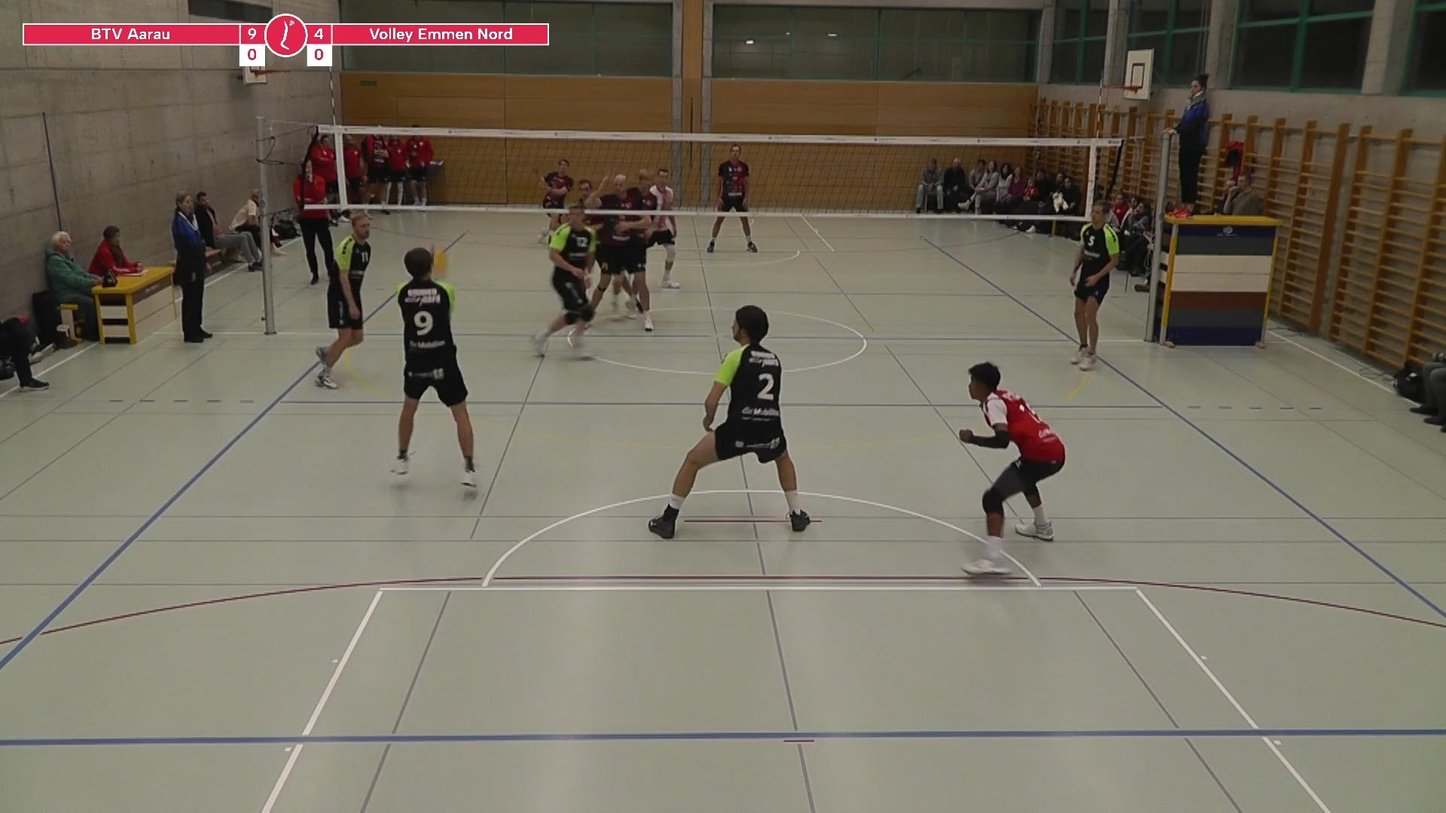ricezione: (397, 230, 486, 487)
